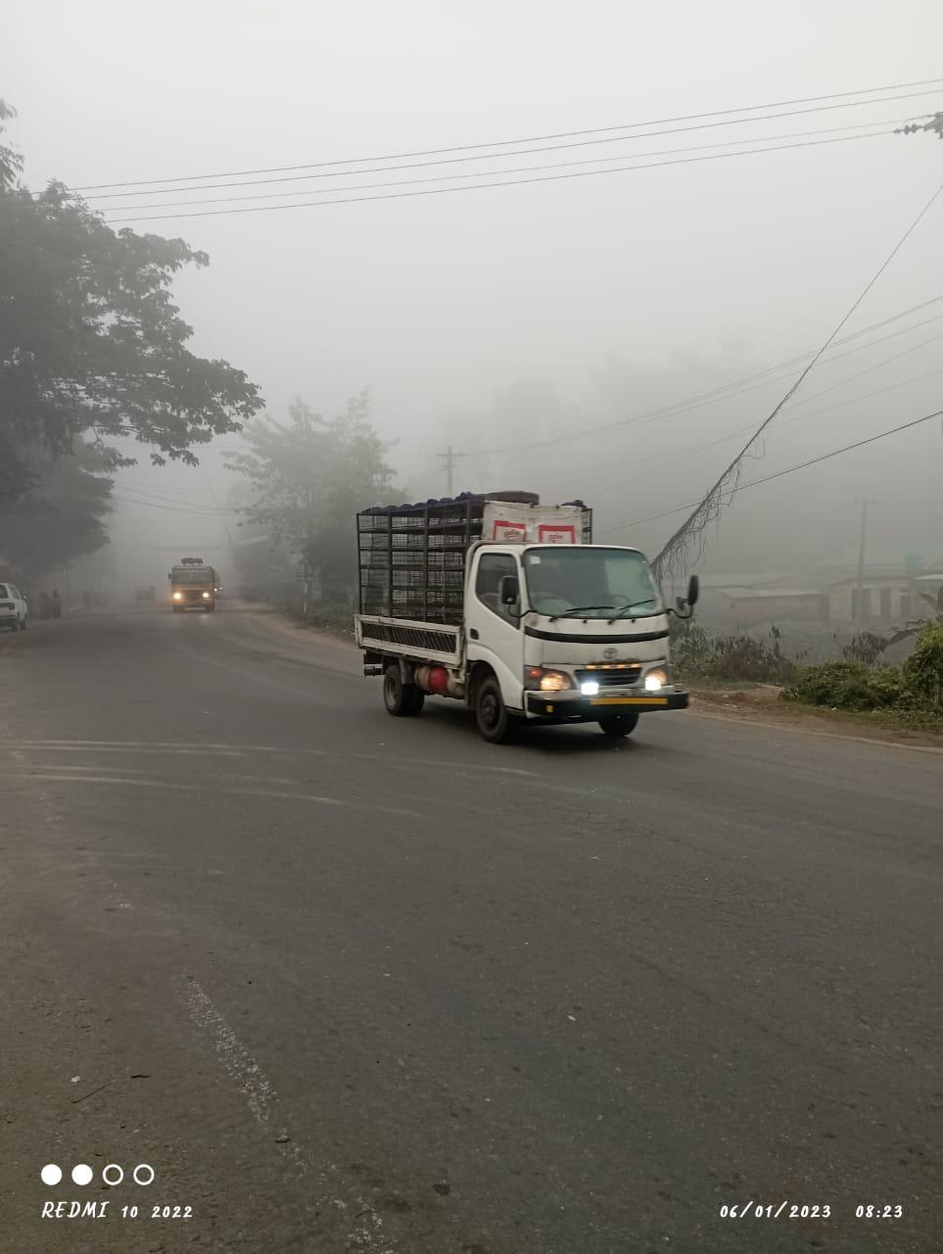Car: (347, 482, 705, 748)
Truck: (168, 550, 233, 620)
